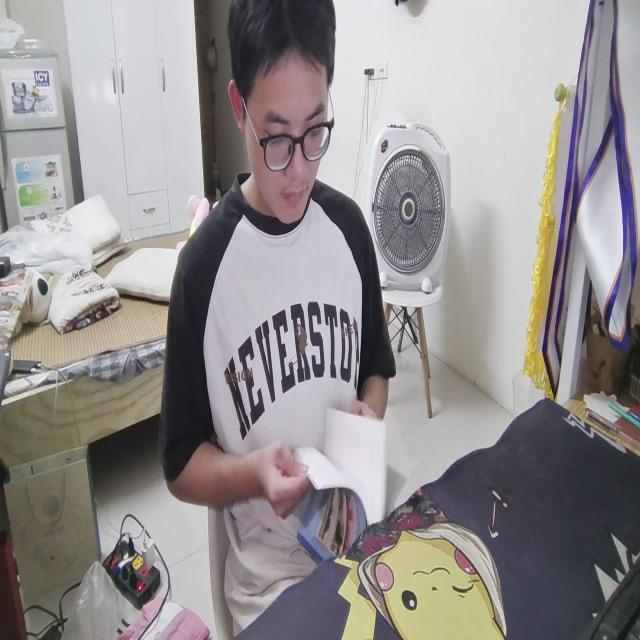book: (291, 393, 392, 586)
student: (160, 0, 396, 640)
